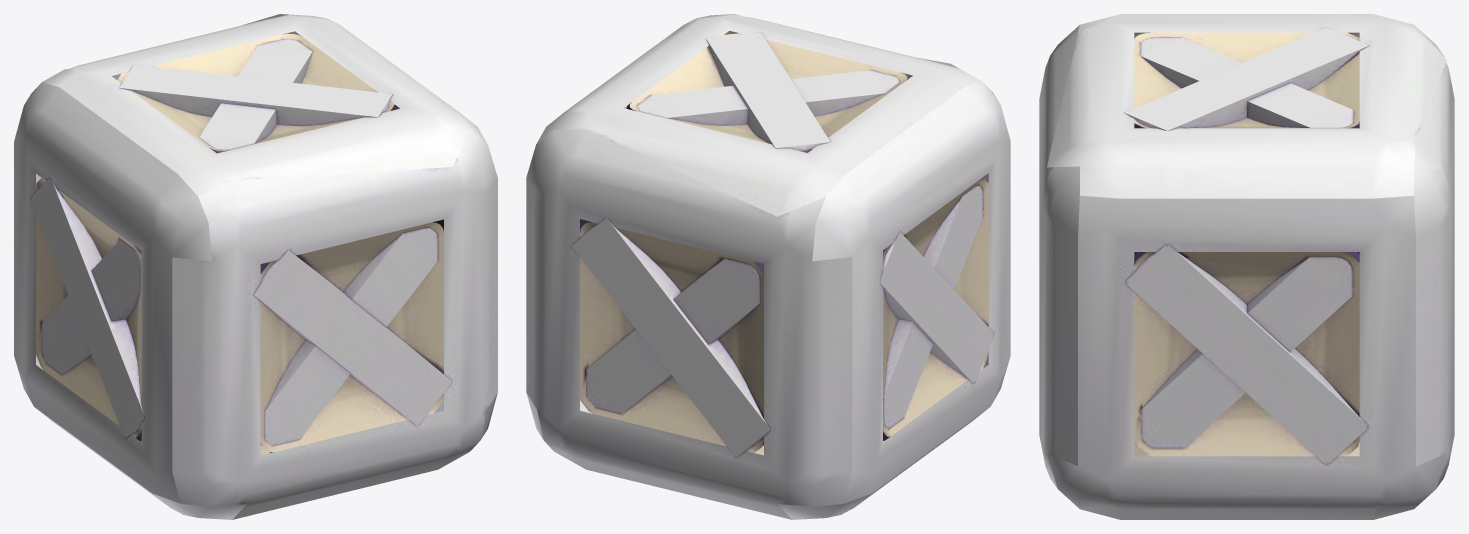
The model's file is sandik.glb.
The picture shows the model from 3 angles, left to right: view 1: azimuth 30°, elevation 25°; view 2: azimuth 150°, elevation 25°; view 3: azimuth 270°, elevation 25°; orthographic projection. The views are drawn at different scales.
Visible parts, largest first — view 1: sandik; view 2: sandik; view 3: sandik.
Boxes of the visible parts, x1=… form: sandik: x1=14, y1=14, x2=497, y2=519; sandik: x1=526, y1=14, x2=1010, y2=519; sandik: x1=1039, y1=14, x2=1454, y2=519.
Bounding box in the file's own units: 1.52 × 1.51 × 1.51.
1 material, 1 textured.
